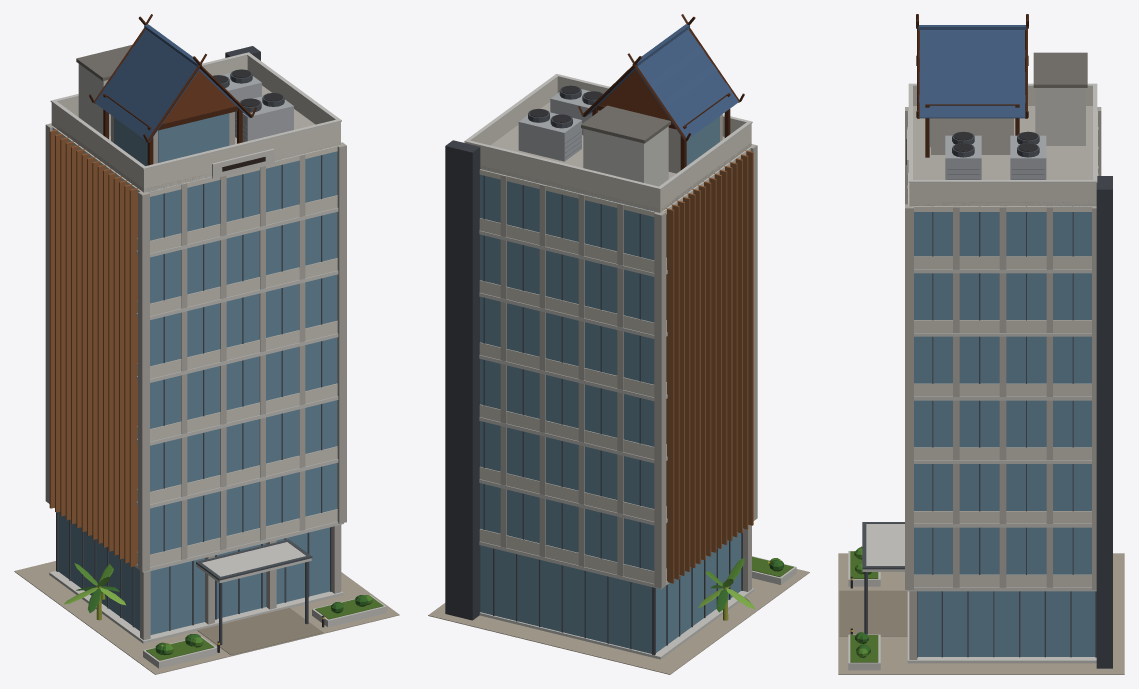
File: shop_3.glb
3 views of the same model, side by side, from view 1: azimuth 30°, elevation 25°; view 2: azimuth 150°, elevation 25°; view 3: azimuth 270°, elevation 25° (orthographic). The views are drawn at different scales.
Visible parts, largest first — view 1: body; view 2: body; view 3: body.
Part boxes in pixels (left/top/right/bottom): body: left=14, top=14, right=399, bottom=674; body: left=428, top=14, right=809, bottom=674; body: left=838, top=14, right=1124, bottom=674.
Size of the model in its own units: 17.1 by 35.48 by 15.9.
